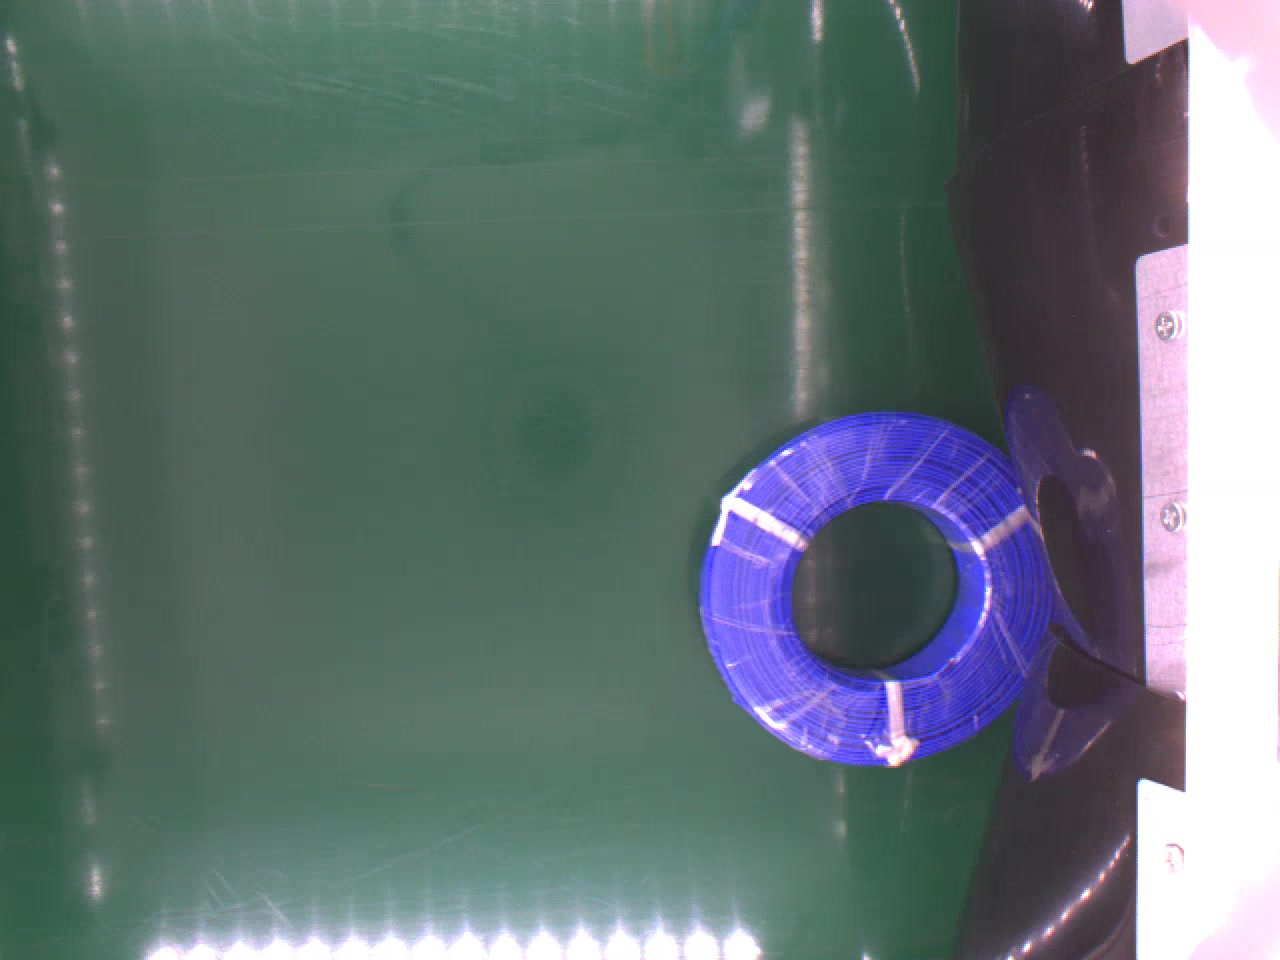blue: (697, 406, 1054, 768)
